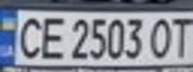0: (106, 16, 127, 61)
2: (66, 15, 90, 61)
3: (124, 16, 148, 60)
5: (87, 15, 109, 61)
C: (12, 12, 45, 61)
E: (36, 14, 69, 61)
O: (145, 15, 175, 60)
T: (166, 15, 193, 57)
